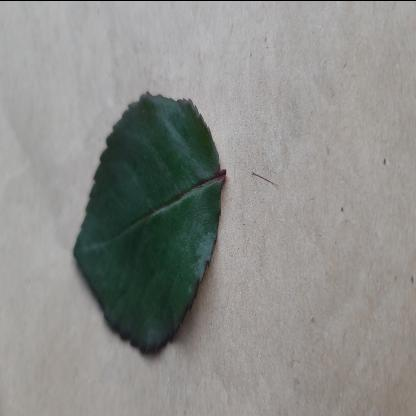powdery-mildew: (68, 92, 224, 362)
